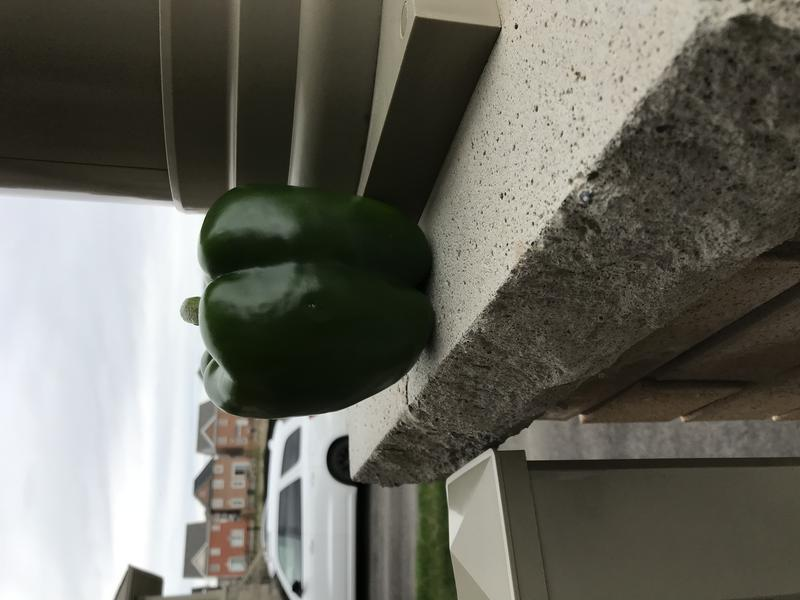green_pepper: (163, 190, 455, 424)
